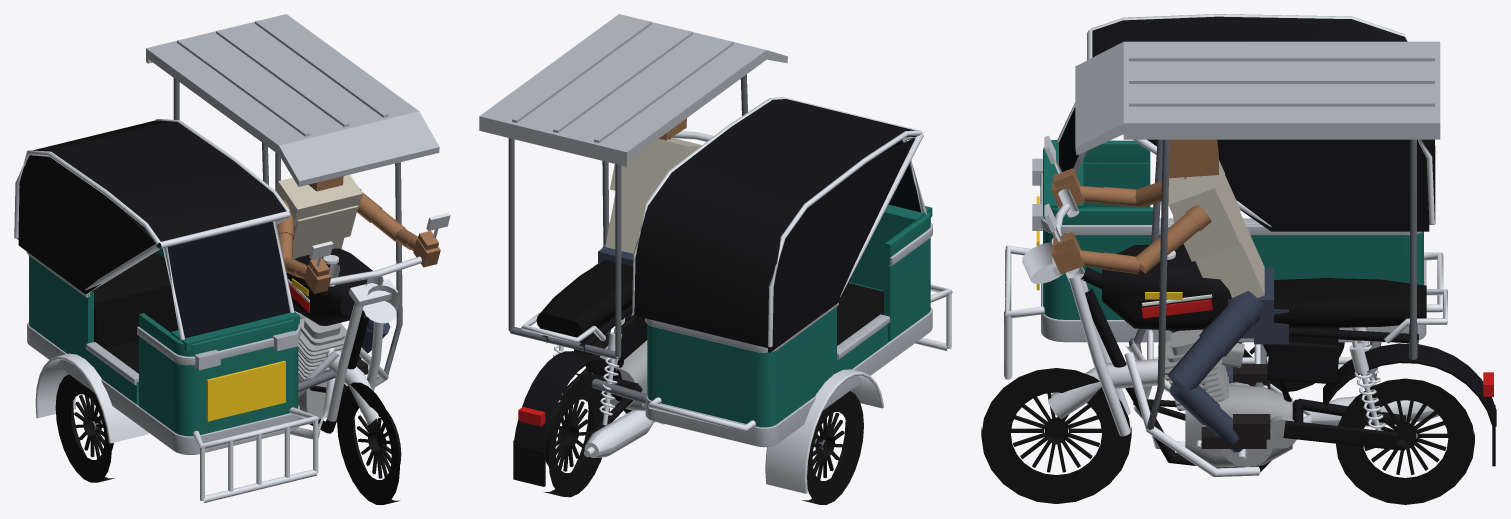
File: traysikel.glb
3 renders of one model, left to right at view 1: azimuth 30°, elevation 25°; view 2: azimuth 150°, elevation 25°; view 3: azimuth 270°, elevation 25°, orthographic. The views are drawn at different scales.
Parts seen in each view (by area): view 1: Roof_Sidecar, Roof_Bike, SidecarBody, Bumper, SidecarGlass, Spin (×2), SidecarTrim, SidecarSeat, Fork, Torso, Body, RouteBoard (+7 smaller); view 2: Roof_Sidecar, Roof_Bike, SidecarBody, Bumper, Spin (×2), Body, SidecarTrim, SidecarFrame, Saddle, Torso, Chrome, SidecarSeat (+2 smaller); view 3: Roof_Bike, Roof_Sidecar, Spin (×2), Body, SidecarBody, Torso, Saddle, Engine, Fork, Chrome, SidecarTrim, Bumper (+14 smaller).
Boxes of the visible parts, x1,y1,x2,y2 form: Roof_Sidecar: [17, 120, 285, 294]; Roof_Bike: [146, 14, 439, 186]; SidecarBody: [29, 228, 299, 436]; Bumper: [14, 119, 318, 502]; SidecarGlass: [167, 221, 289, 338]; Spin (×2): [55, 374, 401, 504]; SidecarTrim: [26, 252, 300, 454]; SidecarSeat: [92, 216, 178, 373]; Fork: [327, 256, 421, 424]; Torso: [275, 174, 362, 259]; Body: [286, 248, 372, 433]; RouteBoard: [206, 360, 285, 421]; Roof_Sidecar: [634, 99, 916, 352]; Roof_Bike: [479, 14, 787, 166]; SidecarBody: [647, 204, 932, 427]; Bumper: [632, 97, 952, 493]; Spin (×2): [544, 373, 863, 504]; Body: [513, 304, 647, 486]; SidecarTrim: [645, 217, 932, 447]; SidecarFrame: [508, 74, 825, 449]; Saddle: [536, 260, 632, 337]; Torso: [605, 137, 701, 253]; Chrome: [521, 312, 664, 457]; SidecarSeat: [837, 283, 883, 345]; Roof_Bike: [1075, 41, 1440, 154]; Roof_Sidecar: [1092, 16, 1435, 231]; Spin (×2): [981, 368, 1474, 504]; Body: [1081, 244, 1496, 471]; SidecarBody: [1043, 140, 1423, 319]; Torso: [1168, 160, 1264, 297]; Saddle: [1274, 278, 1426, 327]; Engine: [1164, 329, 1296, 467]; Fork: [1022, 188, 1158, 436]; Chrome: [1124, 250, 1447, 476]; SidecarTrim: [1032, 158, 1426, 342]; Bumper: [1004, 14, 1443, 379].
Size of the model in its own units: 1.44 by 1.72 by 1.92.
